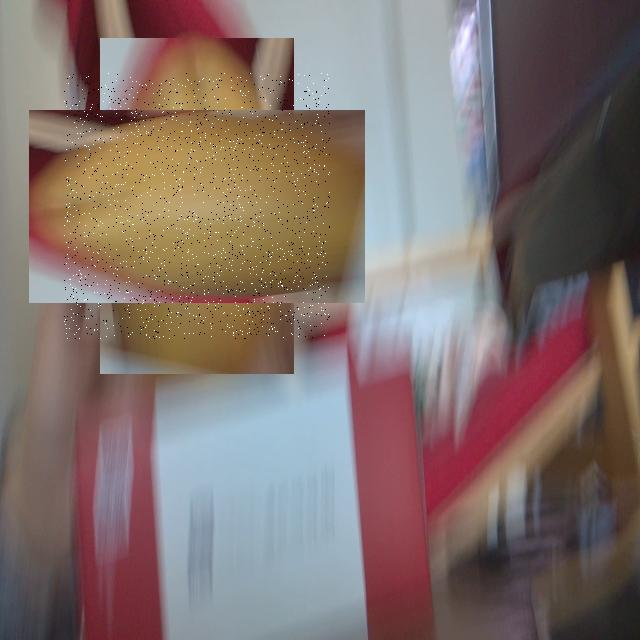pear: (64, 73, 330, 339)
